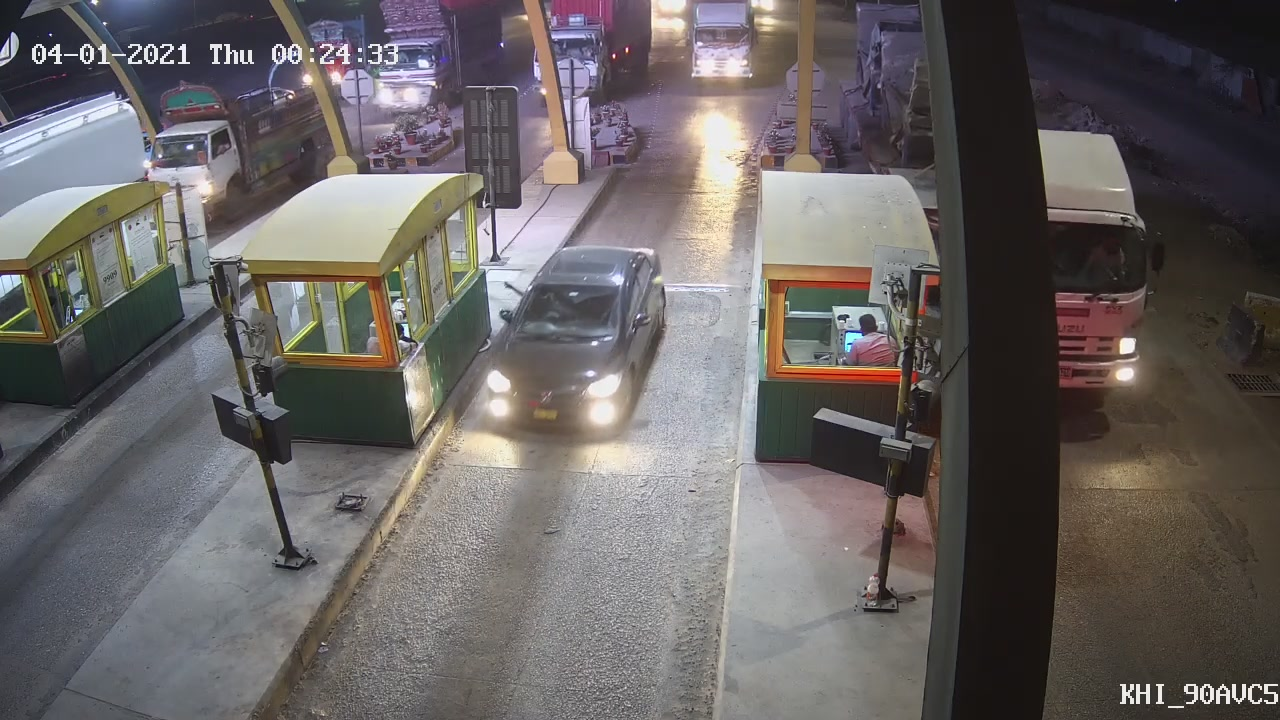F1: (470, 241, 678, 444)
